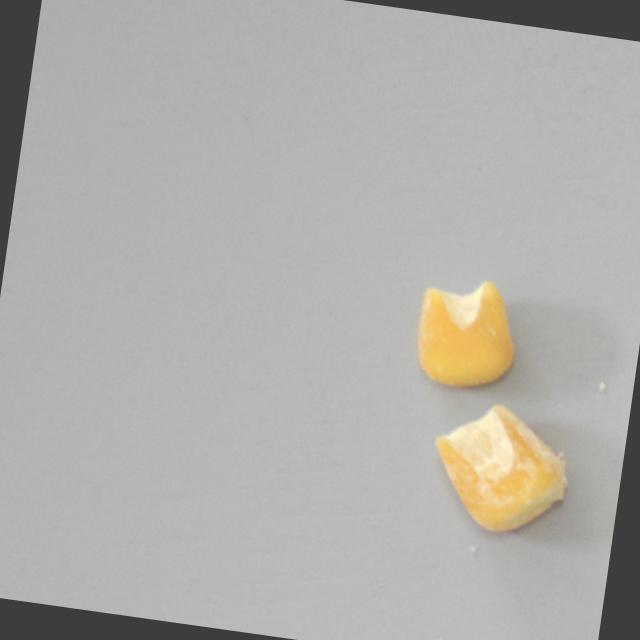dañado: (420, 389, 586, 547), (405, 264, 528, 398)
